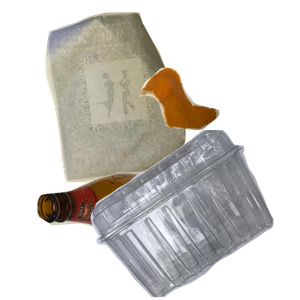glass: (34, 170, 223, 300)
paper: (43, 10, 221, 185)
plastic: (88, 130, 300, 300)
trash: (137, 65, 300, 188)
